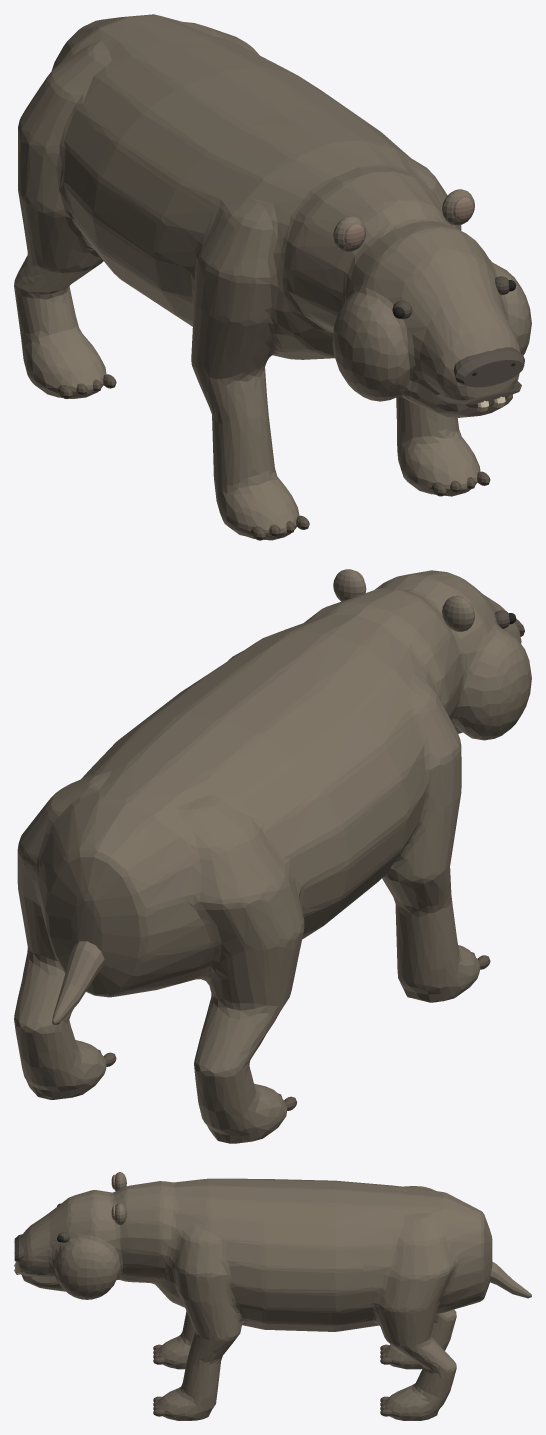
The picture shows the model from 3 angles, top to bottom: view 1: azimuth 30°, elevation 25°; view 2: azimuth 150°, elevation 25°; view 3: azimuth 270°, elevation 25°; orthographic projection. The views are drawn at different scales.
Parts seen in each view (by area): view 1: Unified_anatomical_skin, Nasal_pad, Rounded_ear_L, Rounded_ear_R; view 2: Unified_anatomical_skin, Short_plain_tail, Rounded_ear_L, Rounded_ear_R; view 3: Unified_anatomical_skin, Short_plain_tail.
Part boxes in pixels (bbox=[...]): Unified_anatomical_skin: bbox=[14, 14, 531, 540]; Nasal_pad: bbox=[454, 347, 524, 387]; Rounded_ear_L: bbox=[333, 216, 366, 252]; Rounded_ear_R: bbox=[442, 189, 474, 225]; Unified_anatomical_skin: bbox=[14, 570, 531, 1143]; Short_plain_tail: bbox=[52, 941, 104, 1024]; Rounded_ear_L: bbox=[442, 595, 474, 631]; Rounded_ear_R: bbox=[333, 569, 366, 601]; Unified_anatomical_skin: bbox=[18, 1178, 492, 1420]; Short_plain_tail: bbox=[490, 1261, 531, 1298].
Bounding box in the file's own units: 0.8183 × 0.9982 × 2.32.
